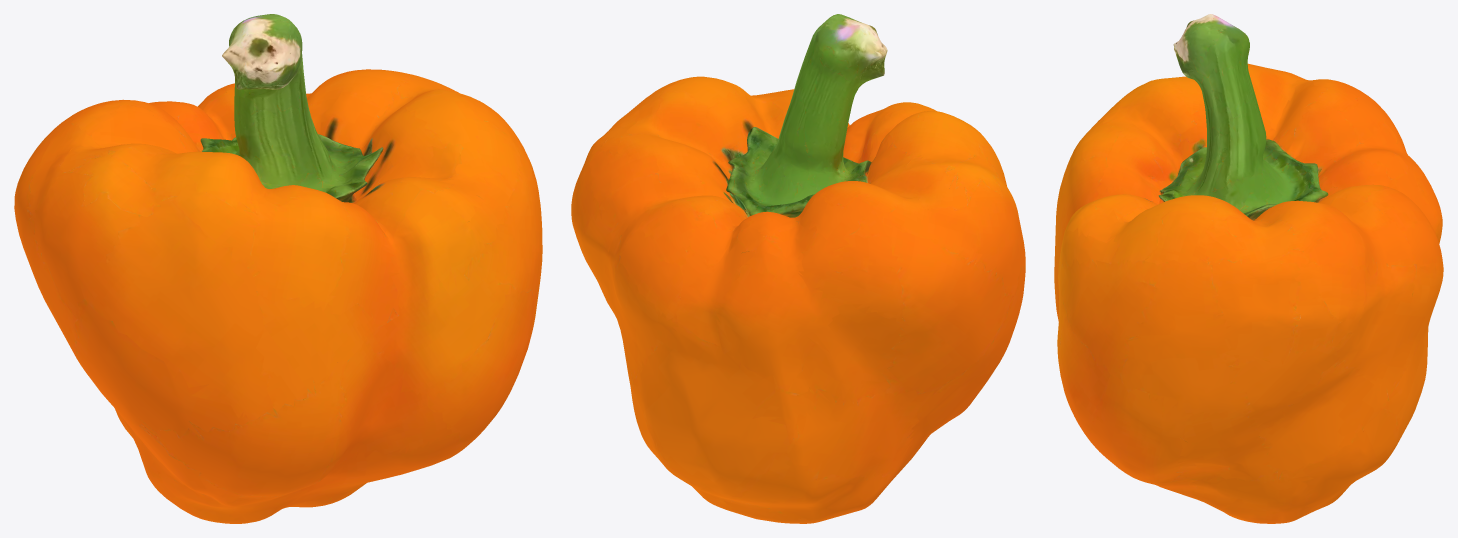
Rendered from kitchen-bell-pepper-06.glb.
The picture shows the model from 3 angles, left to right: view 1: azimuth 30°, elevation 25°; view 2: azimuth 150°, elevation 25°; view 3: azimuth 270°, elevation 25°; orthographic projection. The views are drawn at different scales.
Parts seen in each view (by area): view 1: orient; view 2: orient; view 3: orient.
Boxes of the visible parts, x1=… form: orient: x1=14, y1=14, x2=542, y2=523; orient: x1=571, y1=14, x2=1025, y2=523; orient: x1=1054, y1=14, x2=1443, y2=523.
Bounding box in the file's own units: 1.9 × 2.09 × 1.59.
Materials: 1 (1 with a texture image).
